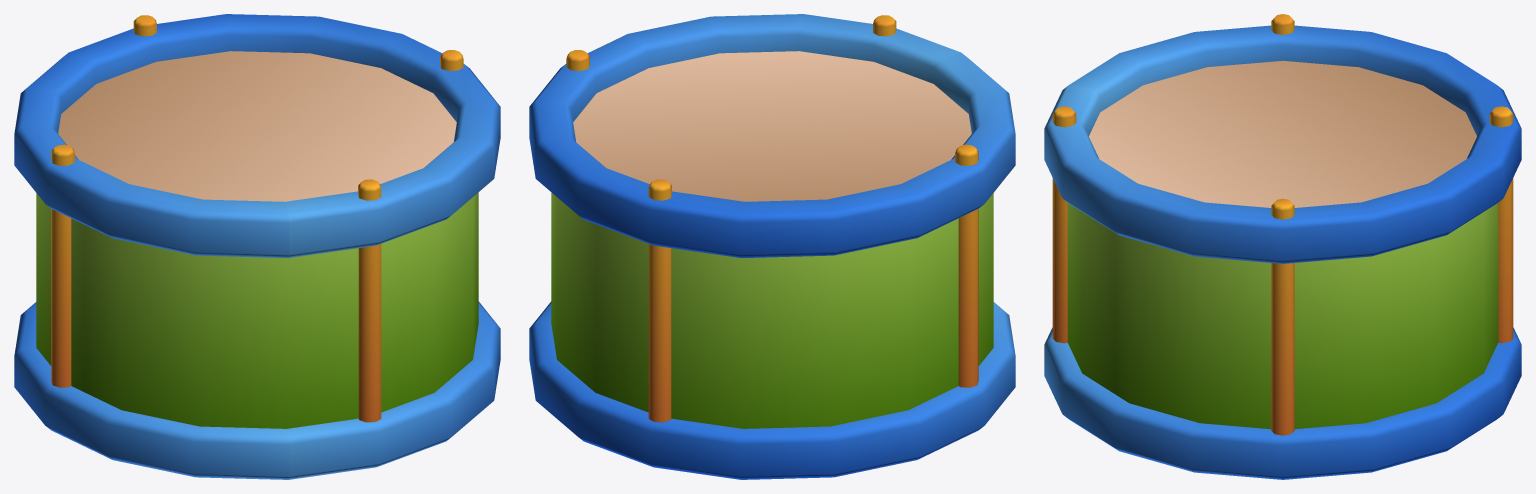
File: Drum_blue.fbx
3 renders of one model, left to right at view 1: azimuth 30°, elevation 25°; view 2: azimuth 150°, elevation 25°; view 3: azimuth 270°, elevation 25°, orthographic. The views are drawn at different scales.
Visible parts, largest first — view 1: Drum_blue; view 2: Drum_blue; view 3: Drum_blue.
Boxes of the visible parts, x1,y1,x2,y2 form: Drum_blue: [14, 14, 500, 479]; Drum_blue: [529, 14, 1015, 479]; Drum_blue: [1044, 14, 1521, 479].
Bounding box in the file's own units: 170 × 107 × 170.
